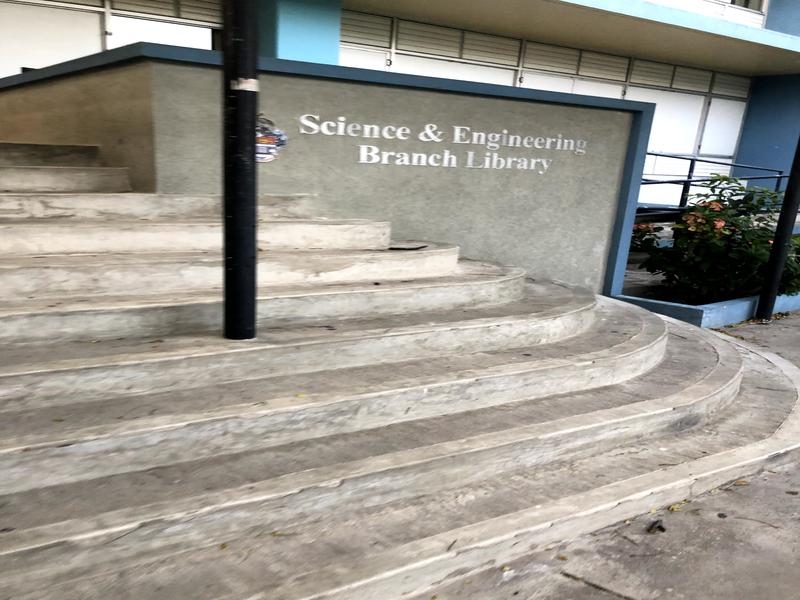18.0053644_-76.7493880_librarysign: (293, 98, 605, 198)
